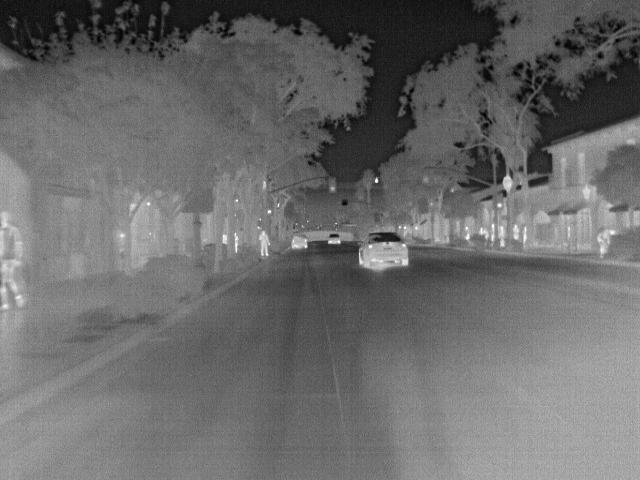car: (359, 229, 411, 271), (290, 234, 309, 252), (325, 232, 343, 248)
person: (1, 210, 27, 311), (255, 229, 273, 258), (510, 220, 524, 243)
